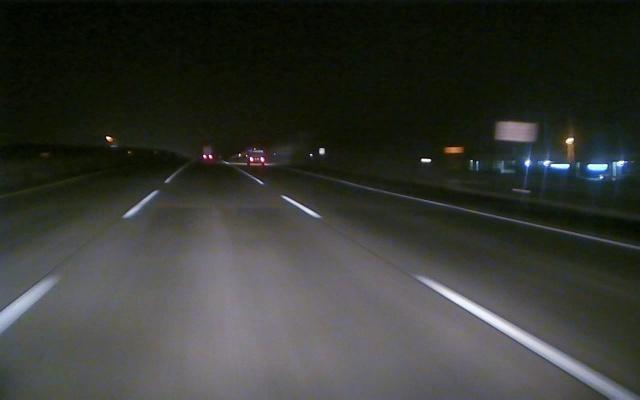lane: (253, 176, 631, 397), (2, 187, 163, 332), (350, 182, 640, 252)
